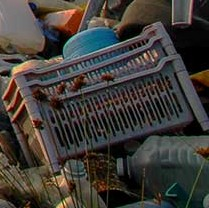garbage: (1, 15, 209, 203)
